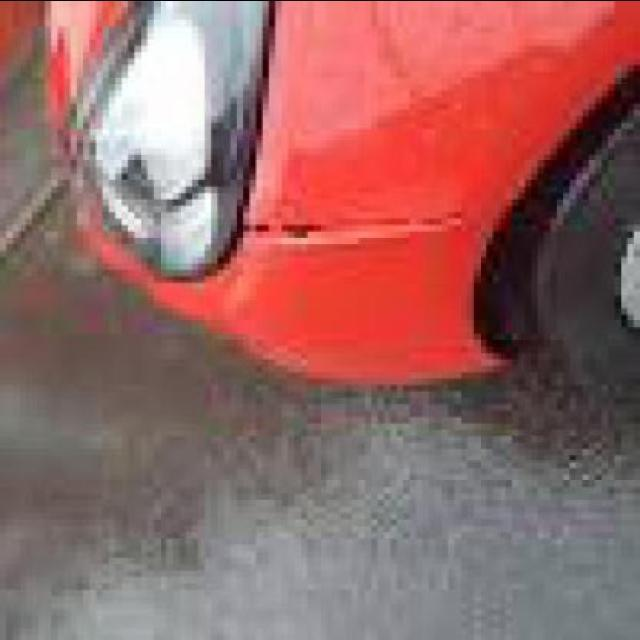front-bumper-dent: (141, 205, 577, 416)
